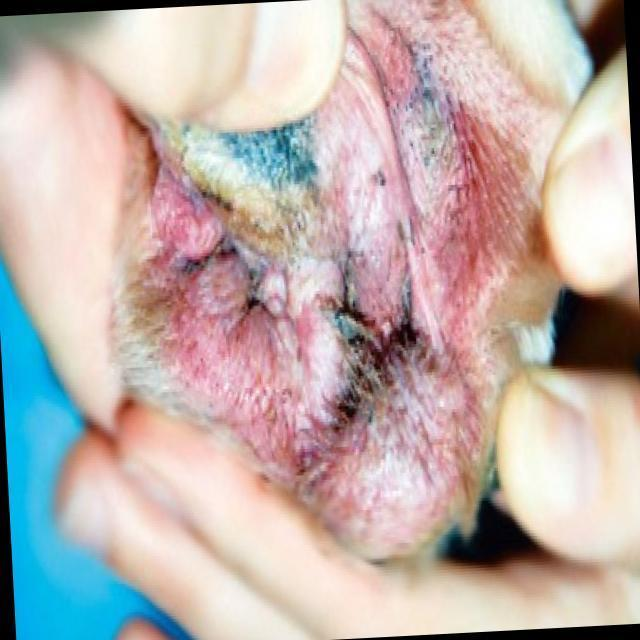fungal infection: (227, 330, 476, 433), (159, 175, 279, 348), (129, 236, 243, 382), (328, 156, 420, 321), (396, 174, 500, 318), (309, 422, 463, 519), (374, 45, 482, 177), (459, 114, 536, 264), (456, 48, 530, 159), (376, 0, 472, 76), (216, 128, 339, 187)
